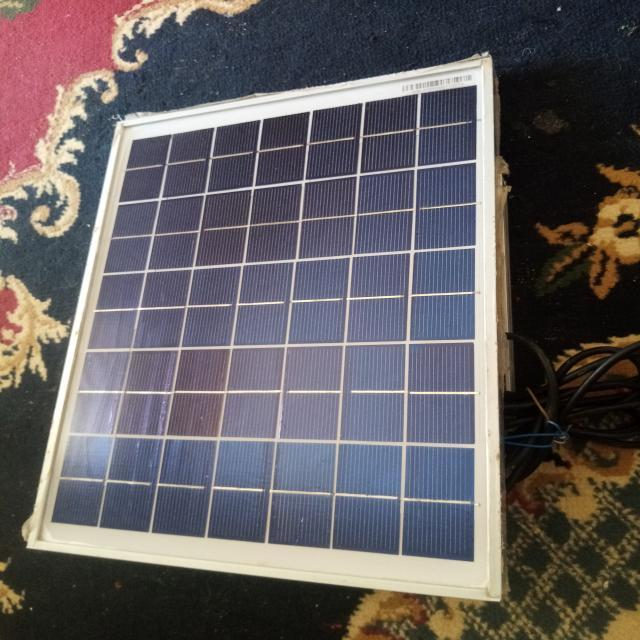Normal Solar Panel: (29, 62, 496, 595)
